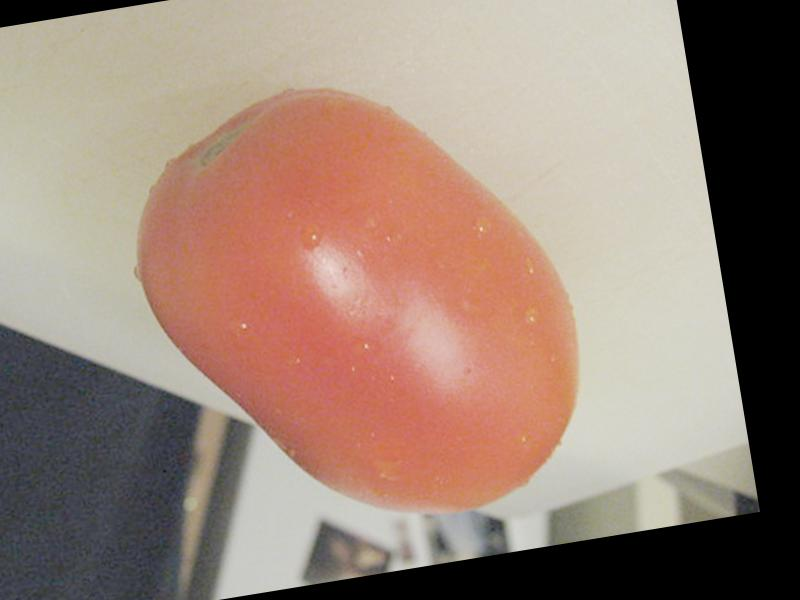Tomato: (113, 54, 601, 558)
